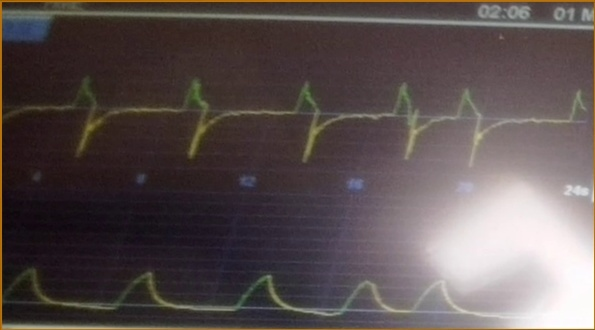Accumulation Flow: (9, 63, 587, 168)
Volume: (4, 238, 506, 321)
